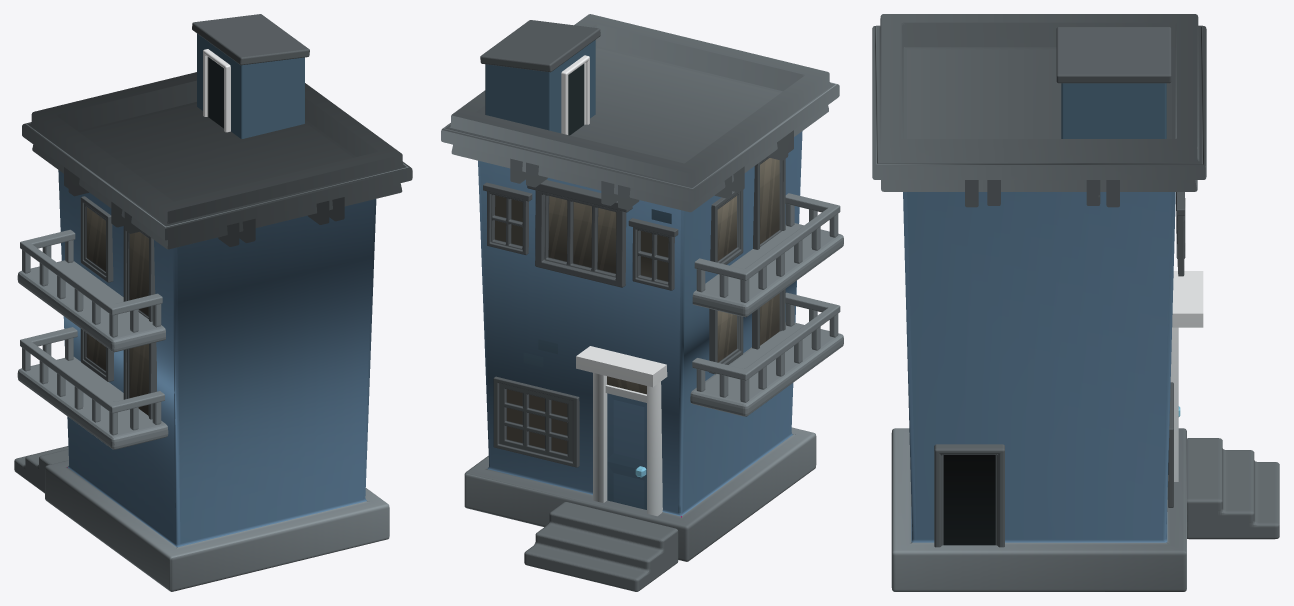
The model's file is EDIFICIO AZUL PEQUEÑO.fbx.
The picture shows the model from 3 angles, left to right: view 1: azimuth 30°, elevation 25°; view 2: azimuth 150°, elevation 25°; view 3: azimuth 270°, elevation 25°; orthographic projection. The views are drawn at different scales.
Parts seen in each view (by area): view 1: building_C_withoutBase.002; view 2: building_C_withoutBase.002; view 3: building_C_withoutBase.002.
Boxes of the visible parts, box(x1,y1,x2,y2) form: building_C_withoutBase.002: box(14, 14, 412, 591); building_C_withoutBase.002: box(441, 14, 843, 591); building_C_withoutBase.002: box(872, 14, 1279, 591).
Size of the model in its own units: 1234 by 1351 by 1921.
7 materials, 7 textured.
